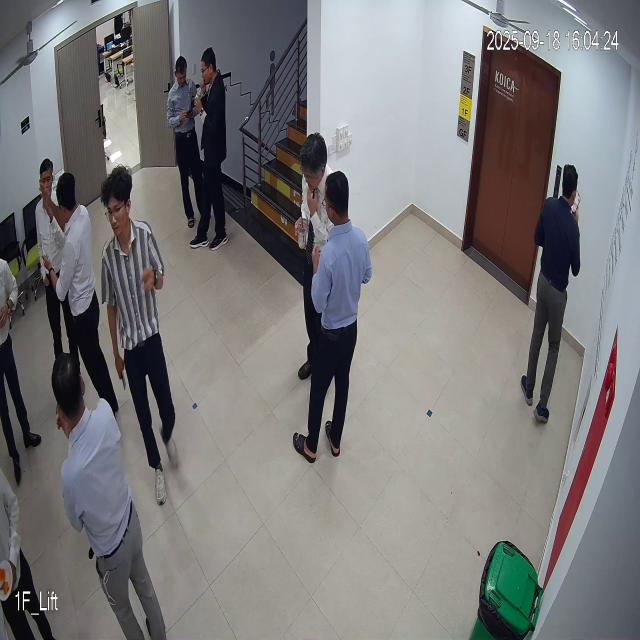face: (102, 163, 134, 242)
